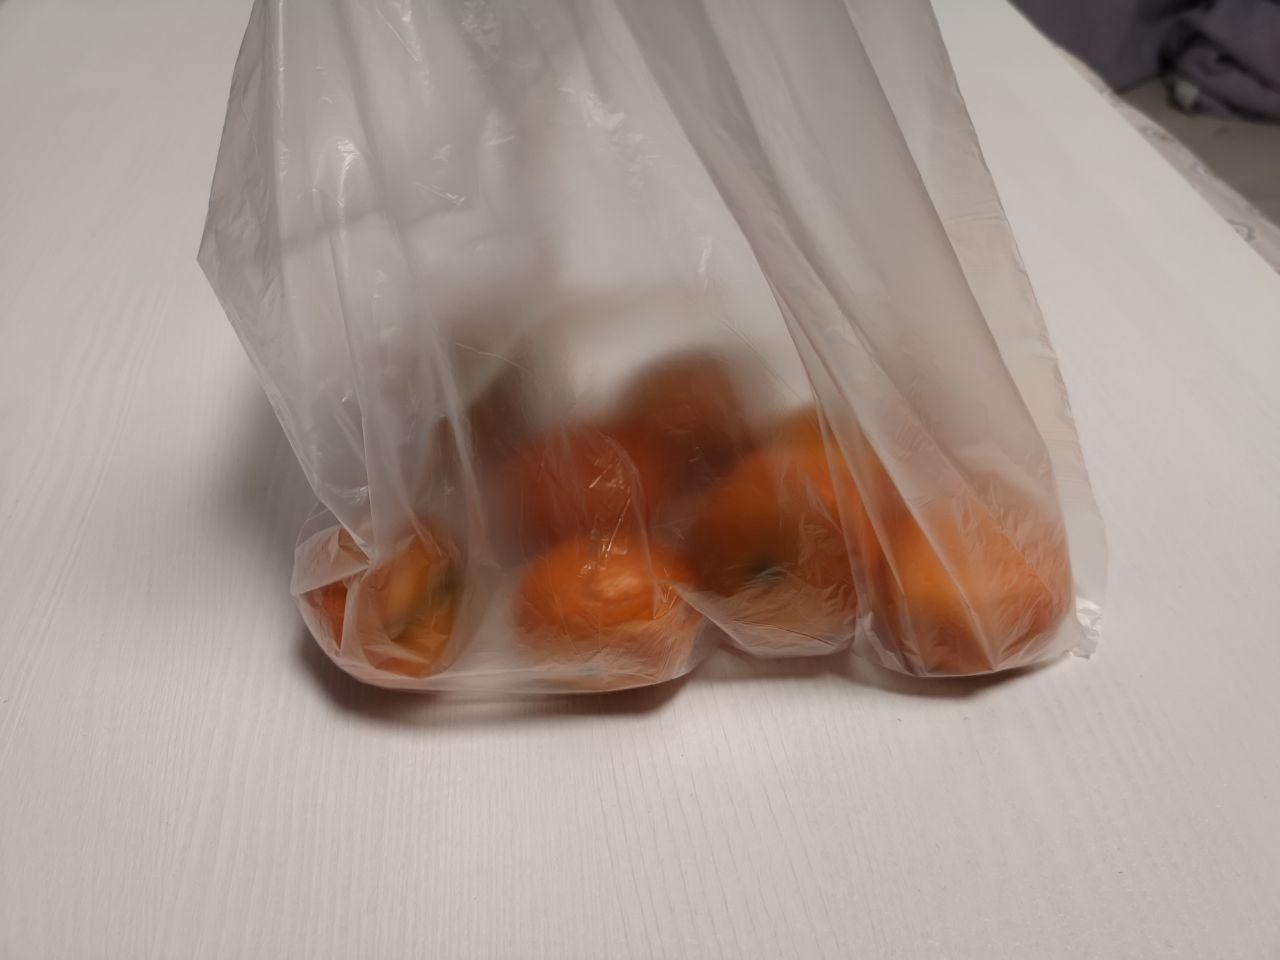clementin: (291, 291, 1105, 702)
